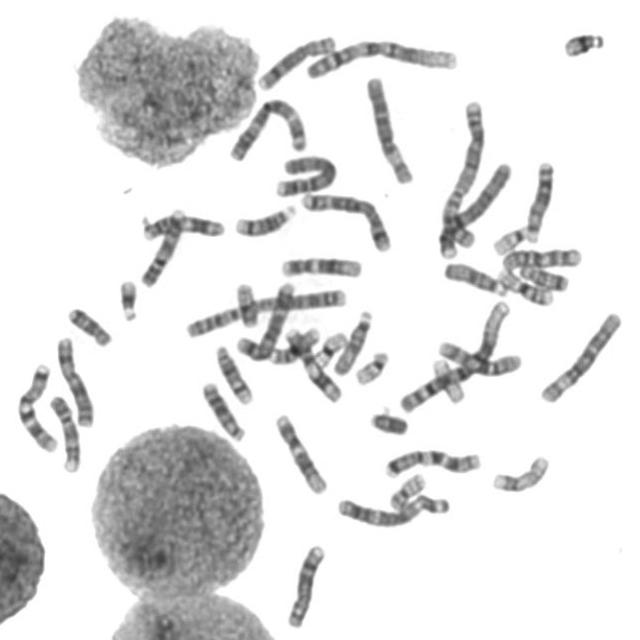A1: (394, 294, 514, 414), (300, 31, 460, 80)
A2: (180, 282, 349, 339), (434, 92, 490, 259)
A3: (222, 91, 310, 163), (332, 488, 452, 530)
B4: (432, 155, 514, 259), (270, 148, 338, 198)
B5: (296, 186, 394, 254), (232, 276, 296, 363)
C10: (432, 334, 524, 378), (496, 240, 585, 273)
C11: (280, 322, 346, 404), (134, 208, 226, 241)
C12: (270, 407, 330, 496), (276, 249, 364, 280)
C6: (534, 305, 625, 405), (359, 69, 416, 185)
C7: (12, 357, 60, 453), (380, 442, 484, 479)
C8: (252, 28, 340, 92), (280, 538, 328, 630)
C9: (136, 202, 187, 288), (44, 388, 83, 474)
D13: (195, 374, 248, 442), (520, 154, 557, 244)
D14: (210, 338, 254, 406), (230, 197, 298, 238)
D15: (328, 304, 376, 377), (438, 256, 510, 296)
E16: (262, 318, 326, 368), (492, 263, 556, 307)
E17: (486, 449, 552, 494)
E18: (62, 300, 114, 348), (513, 258, 571, 292)
F19: (428, 352, 467, 405), (310, 326, 350, 368)
F20: (384, 466, 428, 512), (230, 276, 260, 328)
G21: (557, 25, 607, 60), (114, 272, 141, 322)
G22: (349, 344, 392, 386), (488, 219, 532, 256)
X: (50, 329, 97, 428)
Y: (364, 406, 410, 437)
